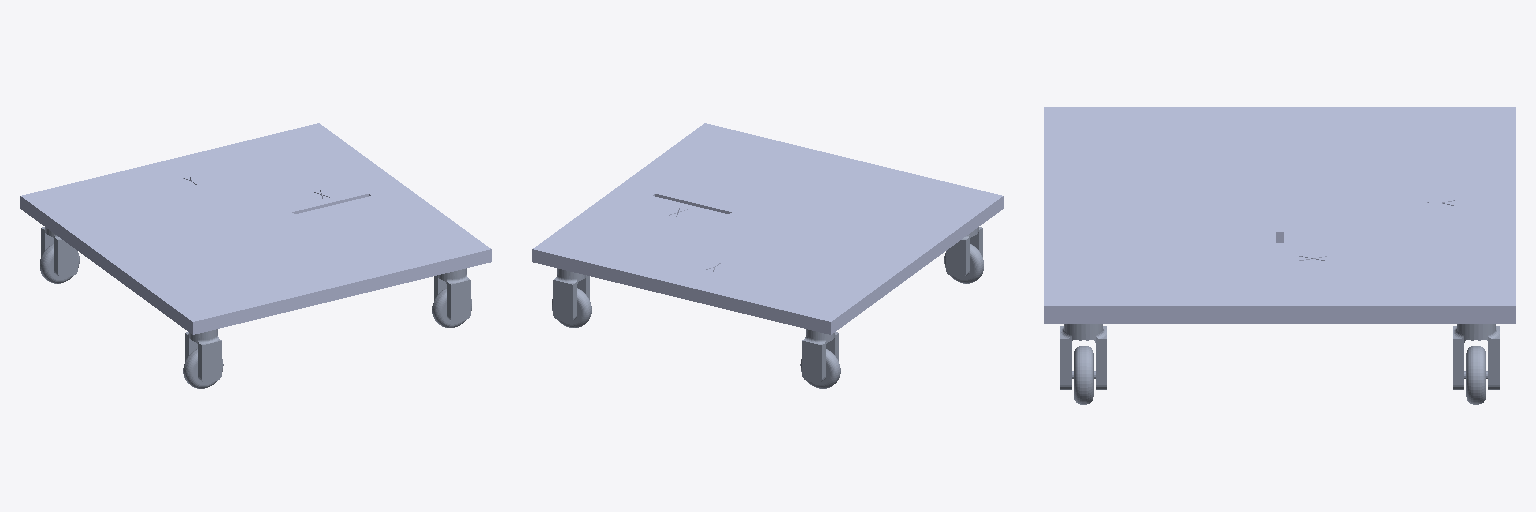
URDF robot description (agv_sim):
<?xml version="1.0" encoding="utf-8"?>
<!-- This URDF was automatically created by SolidWorks to URDF Exporter! Originally created by [author] ([email redacted]) 
     Commit Version: 1.5.1-0-g916b5db  Build Version: 1.5.7152.31018
     For more information, please see http://wiki.ros.org/sw_urdf_exporter -->
<robot
  name="agv_sim">

  <link name="base_foot_print"/>

  <joint name="foot2base" type="fixed">
    <parent link="base_foot_print"/>
    <child link="base_link"/>
    <origin
      xyz="0 0 0.315"
      rpy="0 0 0" />
  </joint>

  <link
    name="base_link">
    <inertial>
      <origin
        xyz="0.000572457803951106 5.8095694305758E-05 -0.0248970986198941"
        rpy="0 0 0" />
      <mass
        value="70.831722762647" />
      <inertia
        ixx="8.41485617960419"
        ixy="0.0003138074825713"
        ixz="0.000620691878247195"
        iyy="8.39616225644627"
        iyz="6.28598680580758E-05"
        izz="16.7814288389134" />
    </inertial>
    <visual>
      <origin
        xyz="0 0 0"
        rpy="0 0 0" />
      <geometry>
        <mesh
          filename="package://agv_sim/meshes/base_link.STL" />
      </geometry>
      <material
        name="">
        <color
          rgba="0.792156862745098 0.819607843137255 0.933333333333333 1" />
      </material>
    </visual>
    <collision>
      <origin
        xyz="0 0 0"
        rpy="0 0 0" />
      <geometry>
        <mesh
          filename="package://agv_sim/meshes/base_link.STL" />
      </geometry>
    </collision>
  </link>
  <link
    name="link_turn1">
    <inertial>
      <origin
        xyz="-1.57313721468877E-05 2.08881151264606E-09 -0.112603648712901"
        rpy="0 0 0" />
      <mass
        value="4.00473648526945" />
      <inertia
        ixx="0.0253784938511554"
        ixy="-4.20655727353763E-10"
        ixz="-7.80936621694287E-07"
        iyy="0.0224402493991133"
        iyz="-1.7416278261475E-10"
        izz="0.00760667733951808" />
    </inertial>
    <visual>
      <origin
        xyz="0 0 0"
        rpy="0 0 0" />
      <geometry>
        <mesh
          filename="package://agv_sim/meshes/link_turn1.STL" />
      </geometry>
      <material
        name="">
        <color
          rgba="0.666666666666667 0.698039215686274 0.768627450980392 1" />
      </material>
    </visual>
    <collision>
      <origin
        xyz="0 0 0"
        rpy="0 0 0" />
      <geometry>
        <mesh
          filename="package://agv_sim/meshes/link_turn1.STL" />
      </geometry>
    </collision>
  </link>
  <joint
    name="joint_turn1"
    type="revolute">
    <origin
      xyz="0.50147 -0.49985 -0.24"
      rpy="3.1416 0 0" />
    <parent
      link="base_link" />
    <child
      link="link_turn1" />
    <axis
      xyz="0 0 1" />
    <limit
      lower="-6.28"
      upper="6.28"
      effort="6"
      velocity="6.28" />
  </joint>
  <link
    name="link_wheel1">
    <inertial>
      <origin
        xyz="5.55111512312578E-17 0 5.55111512312578E-17"
        rpy="0 0 0" />
      <mass
        value="2.23959617519268" />
      <inertia
        ixx="0.00336281943850301"
        ixy="-1.01893319697208E-36"
        ixz="-2.08070825435685E-20"
        iyy="0.00336281943850301"
        iyz="-3.05466642246581E-36"
        izz="0.0056821214893179" />
    </inertial>
    <visual>
      <origin
        xyz="0 0 0"
        rpy="0 0 0" />
      <geometry>
        <mesh
          filename="package://agv_sim/meshes/link_wheel1.STL" />
      </geometry>
      <material
        name="">
        <color
          rgba="0.666666666666667 0.698039215686274 0.768627450980392 1" />
      </material>
    </visual>
    <collision>
      <origin
        xyz="0 0 0"
        rpy="0 0 0" />
      <geometry>
        <mesh
          filename="package://agv_sim/meshes/link_wheel1.STL" />
      </geometry>
    </collision>
  </link>
  <joint
    name="joint_wheel1"
    type="continuous">
    <origin
      xyz="0 0 0"
      rpy="-1.5708 0 0" />
    <parent
      link="link_turn1" />
    <child
      link="link_wheel1" />
    <axis
      xyz="0 0 1" />
    <limit
      effort="2.5"
      velocity="26.17" />
  </joint>
  <link
    name="link_turn2">
    <inertial>
      <origin
        xyz="-1.57313721468877E-05 2.08881145713491E-09 -0.112603648712903"
        rpy="0 0 0" />
      <mass
        value="4.00473648526945" />
      <inertia
        ixx="0.0253784938511554"
        ixy="-4.2065572642052E-10"
        ixz="-7.80936621695284E-07"
        iyy="0.0224402493991133"
        iyz="-1.74162778061351E-10"
        izz="0.00760667733951808" />
    </inertial>
    <visual>
      <origin
        xyz="0 0 0"
        rpy="0 0 0" />
      <geometry>
        <mesh
          filename="package://agv_sim/meshes/link_turn2.STL" />
      </geometry>
      <material
        name="">
        <color
          rgba="0.666666666666667 0.698039215686274 0.768627450980392 1" />
      </material>
    </visual>
    <collision>
      <origin
        xyz="0 0 0"
        rpy="0 0 0" />
      <geometry>
        <mesh
          filename="package://agv_sim/meshes/link_turn2.STL" />
      </geometry>
    </collision>
  </link>
  <joint
    name="joint_turn2"
    type="revolute">
    <origin
      xyz="0.50147 0.50015 -0.24"
      rpy="3.1416 0 0" />
    <parent
      link="base_link" />
    <child
      link="link_turn2" />
    <axis
      xyz="0 0 1" />
    <limit
      lower="-6.28"
      upper="6.28"
      effort="6"
      velocity="6.28" />
  </joint>
  <link
    name="link_wheel2">
    <inertial>
      <origin
        xyz="-1.55431223447522E-15 -2.77555756156289E-17 9.99200722162641E-16"
        rpy="0 0 0" />
      <mass
        value="2.23959617519268" />
      <inertia
        ixx="0.00336281943850301"
        ixy="-1.96015235160114E-34"
        ixz="-1.60338783836118E-19"
        iyy="0.00336281943850301"
        iyz="-1.6278952830908E-19"
        izz="0.0056821214893179" />
    </inertial>
    <visual>
      <origin
        xyz="0 0 0"
        rpy="0 0 0" />
      <geometry>
        <mesh
          filename="package://agv_sim/meshes/link_wheel2.STL" />
      </geometry>
      <material
        name="">
        <color
          rgba="0.666666666666667 0.698039215686274 0.768627450980392 1" />
      </material>
    </visual>
    <collision>
      <origin
        xyz="0 0 0"
        rpy="0 0 0" />
      <geometry>
        <mesh
          filename="package://agv_sim/meshes/link_wheel2.STL" />
      </geometry>
    </collision>
  </link>
  <joint
    name="joint_wheel2"
    type="continuous">
    <origin
      xyz="0 0 0"
      rpy="1.5708 0 0" />
    <parent
      link="link_turn2" />
    <child
      link="link_wheel2" />
    <axis
      xyz="0 0 1" />
    <limit
      effort="2.5"
      velocity="26.17" />
  </joint>
  <link
    name="link_turn3">
    <inertial>
      <origin
        xyz="-1.57313721469432E-05 2.08881134611261E-09 -0.112603648712901"
        rpy="0 0 0" />
      <mass
        value="4.00473648526944" />
      <inertia
        ixx="0.0253784938511554"
        ixy="-4.20655726066614E-10"
        ixz="-7.8093662169496E-07"
        iyy="0.0224402493991132"
        iyz="-1.74162772229254E-10"
        izz="0.00760667733951807" />
    </inertial>
    <visual>
      <origin
        xyz="0 0 0"
        rpy="0 0 0" />
      <geometry>
        <mesh
          filename="package://agv_sim/meshes/link_turn3.STL" />
      </geometry>
      <material
        name="">
        <color
          rgba="0.666666666666667 0.698039215686274 0.768627450980392 1" />
      </material>
    </visual>
    <collision>
      <origin
        xyz="0 0 0"
        rpy="0 0 0" />
      <geometry>
        <mesh
          filename="package://agv_sim/meshes/link_turn3.STL" />
      </geometry>
    </collision>
  </link>
  <joint
    name="joint_turn3"
    type="revolute">
    <origin
      xyz="-0.49853 0.50015 -0.24"
      rpy="-3.1416 0 0" />
    <parent
      link="base_link" />
    <child
      link="link_turn3" />
    <axis
      xyz="0 0 1" />
    <limit
      lower="-6.28"
      upper="6.28"
      effort="6"
      velocity="6.28" />
  </joint>
  <link
    name="link_wheel3">
    <inertial>
      <origin
        xyz="4.44089209850063E-16 -2.77555756156289E-17 1.11022302462516E-16"
        rpy="0 0 0" />
      <mass
        value="2.23959617519268" />
      <inertia
        ixx="0.00336281943850301"
        ixy="4.31447688135461E-20"
        ixz="3.74225696272364E-21"
        iyy="0.00336281943850301"
        iyz="-4.44840036424112E-20"
        izz="0.00568212148931791" />
    </inertial>
    <visual>
      <origin
        xyz="0 0 0"
        rpy="0 0 0" />
      <geometry>
        <mesh
          filename="package://agv_sim/meshes/link_wheel3.STL" />
      </geometry>
      <material
        name="">
        <color
          rgba="0.666666666666667 0.698039215686274 0.768627450980392 1" />
      </material>
    </visual>
    <collision>
      <origin
        xyz="0 0 0"
        rpy="0 0 0" />
      <geometry>
        <mesh
          filename="package://agv_sim/meshes/link_wheel3.STL" />
      </geometry>
    </collision>
  </link>
  <joint
    name="joint_wheel3"
    type="continuous">
    <origin
      xyz="0 0 0"
      rpy="1.5708 0 0" />
    <parent
      link="link_turn3" />
    <child
      link="link_wheel3" />
    <axis
      xyz="0 0 1" />
    <limit
      effort="2.5"
      velocity="26.17" />
  </joint>
  <link
    name="link_turn4">
    <inertial>
      <origin
        xyz="-1.57313721477204E-05 2.08881151264606E-09 -0.112603648712896"
        rpy="0 0 0" />
      <mass
        value="4.00473648526944" />
      <inertia
        ixx="0.0253784938511554"
        ixy="-4.20655746938193E-10"
        ixz="-7.80936621821724E-07"
        iyy="0.0224402493991132"
        iyz="-1.74162781506843E-10"
        izz="0.00760667733951807" />
    </inertial>
    <visual>
      <origin
        xyz="0 0 0"
        rpy="0 0 0" />
      <geometry>
        <mesh
          filename="package://agv_sim/meshes/link_turn4.STL" />
      </geometry>
      <material
        name="">
        <color
          rgba="0.666666666666667 0.698039215686274 0.768627450980392 1" />
      </material>
    </visual>
    <collision>
      <origin
        xyz="0 0 0"
        rpy="0 0 0" />
      <geometry>
        <mesh
          filename="package://agv_sim/meshes/link_turn4.STL" />
      </geometry>
    </collision>
  </link>
  <joint
    name="joint_turn4"
    type="revolute">
    <origin
      xyz="-0.49853 -0.49985 -0.24"
      rpy="3.1416 0 0" />
    <parent
      link="base_link" />
    <child
      link="link_turn4" />
    <axis
      xyz="0 0 1" />
    <limit
      lower="-6.28"
      upper="6.28"
      effort="6"
      velocity="6.28" />
  </joint>
  <link
    name="link_wheel4">
    <inertial>
      <origin
        xyz="-3.21964677141295E-15 2.77555756156289E-17 -9.43689570931383E-16"
        rpy="0 0 0" />
      <mass
        value="2.23959617519268" />
      <inertia
        ixx="0.00336281943850301"
        ixy="1.96015921784653E-34"
        ixz="1.60338783836118E-19"
        iyy="0.00336281943850301"
        iyz="-1.61646033830288E-19"
        izz="0.0056821214893179" />
    </inertial>
    <visual>
      <origin
        xyz="0 0 0"
        rpy="0 0 0" />
      <geometry>
        <mesh
          filename="package://agv_sim/meshes/link_wheel4.STL" />
      </geometry>
      <material
        name="">
        <color
          rgba="0.666666666666667 0.698039215686274 0.768627450980392 1" />
      </material>
    </visual>
    <collision>
      <origin
        xyz="0 0 0"
        rpy="0 0 0" />
      <geometry>
        <mesh
          filename="package://agv_sim/meshes/link_wheel4.STL" />
      </geometry>
    </collision>
  </link>
  <joint
    name="joint_wheel4"
    type="continuous">
    <origin
      xyz="0 0 0"
      rpy="-1.5708 0 0" />
    <parent
      link="link_turn4" />
    <child
      link="link_wheel4" />
    <axis
      xyz="0 0 -1" />
    <limit
      effort="2.5"
      velocity="26.17" />
  </joint>

  <transmission name="tran_turn1">
    <type>transmission_interface/SimpleTransmission</type>
    <joint name="joint_turn1">
    <hardwareInterface>hardware_interface/EffortJointInterface</hardwareInterface>
    </joint>
    <actuator name="motorturn1">
    <hardwareInterface>hardware_interface/EffortJointInterface</hardwareInterface>
    <mechanicalReduction>1</mechanicalReduction>
    </actuator> 
    </transmission>

    <transmission name="tran_turn2">
      <type>transmission_interface/SimpleTransmission</type>
      <joint name="joint_turn2">
      <hardwareInterface>hardware_interface/EffortJointInterface</hardwareInterface>
      </joint>
      <actuator name="motor_turn2">
      <hardwareInterface>hardware_interface/EffortJointInterface</hardwareInterface>
      <mechanicalReduction>1</mechanicalReduction>
      </actuator> 
      </transmission>

      <transmission name="tran_turn3">
        <type>transmission_interface/SimpleTransmission</type>
        <joint name="joint_turn3">
        <hardwareInterface>hardware_interface/EffortJointInterface</hardwareInterface>
        </joint>
        <actuator name="motor_turn3">
        <hardwareInterface>hardware_interface/EffortJointInterface</hardwareInterface>
        <mechanicalReduction>1</mechanicalReduction>
        </actuator> 
        </transmission>

    <transmission name="tran_turn4">
      <type>transmission_interface/SimpleTransmission</type>
      <joint name="joint_turn4">
      <hardwareInterface>hardware_interface/EffortJointInterface</hardwareInterface>
      </joint>
      <actuator name="motor_turn4">
      <hardwareInterface>hardware_interface/EffortJointInterface</hardwareInterface>
      <mechanicalReduction>1</mechanicalReduction>
      </actuator> 
      </transmission>

    <transmission name="tran_wheel1">
      <type>transmission_interface/SimpleTransmission</type>
      <joint name="joint_wheel1">
      <hardwareInterface>hardware_interface/EffortJointInterface</hardwareInterface>
      </joint>
      <actuator name="motor_wheel1">
      <hardwareInterface>hardware_interface/EffortJointInterface</hardwareInterface>
      <mechanicalReduction>1</mechanicalReduction>
      </actuator> 
      </transmission>
    <transmission name="tran_wheel2">
      <type>transmission_interface/SimpleTransmission</type>
      <joint name="joint_wheel2">
      <hardwareInterface>hardware_interface/EffortJointInterface</hardwareInterface>
      </joint>
      <actuator name="motor_wheel2">
      <hardwareInterface>hardware_interface/EffortJointInterface</hardwareInterface>
      <mechanicalReduction>1</mechanicalReduction>
      </actuator> 
      </transmission>

  <transmission name="tran_wheel3">
    <type>transmission_interface/SimpleTransmission</type>
    <joint name="joint_wheel3">
    <hardwareInterface>hardware_interface/EffortJointInterface</hardwareInterface>
    </joint>
    <actuator name="motor_wheel3">
    <hardwareInterface>hardware_interface/EffortJointInterface</hardwareInterface>
    <mechanicalReduction>1</mechanicalReduction>
    </actuator> 
    </transmission>

  <transmission name="tran_wheel4">
    <type>transmission_interface/SimpleTransmission</type>
    <joint name="joint_wheel4">
    <hardwareInterface>hardware_interface/EffortJointInterface</hardwareInterface>
    </joint>
    <actuator name="motor_wheel4">
    <hardwareInterface>hardware_interface/EffortJointInterface</hardwareInterface>
    <mechanicalReduction>1</mechanicalReduction>
    </actuator> 
    </transmission>

 




</robot>

--- What the picture shows (computed from the rendered views, not written in the file) ---
Views: 3 orthographic renders of the robot side by side, from view 1: azimuth 30°, elevation 25°; view 2: azimuth 150°, elevation 25°; view 3: azimuth 270°, elevation 25°.
Model agv_sim with 10 links and 9 joints (4 revolute, 4 continuous, 1 fixed), rooted at base_foot_print, posed all joints at 0.
Links seen in each view (by area): view 1: base_link, link_turn4, link_turn1, link_turn3, link_wheel1, link_wheel3, link_wheel4; view 2: base_link, link_turn3, link_turn2, link_turn4, link_wheel2, link_wheel3, link_wheel4; view 3: base_link, link_turn1, link_turn2, link_wheel1, link_wheel2.
Link boxes in pixels (x1,y1,x2,y2): base_link: (20, 123, 491, 334); link_turn4: (185, 329, 221, 382); link_turn1: (434, 268, 470, 322); link_turn3: (41, 227, 77, 277); link_wheel1: (432, 288, 471, 327); link_wheel3: (40, 244, 79, 283); link_wheel4: (183, 349, 223, 388); base_link: (532, 123, 1003, 334); link_turn3: (802, 329, 838, 382); link_turn2: (553, 268, 589, 322); link_turn4: (946, 227, 982, 277); link_wheel2: (552, 288, 591, 327); link_wheel3: (800, 349, 840, 388); link_wheel4: (944, 244, 983, 283); base_link: (1044, 107, 1515, 323); link_turn1: (1060, 324, 1106, 389); link_turn2: (1453, 324, 1499, 389); link_wheel1: (1072, 346, 1095, 404); link_wheel2: (1464, 346, 1487, 404).
Bounding box of the posed robot: 1.2 × 1.2 × 0.315 m (x, y, z).
9 mesh visuals loaded from 9 distinct referenced files (9 binary STL).
